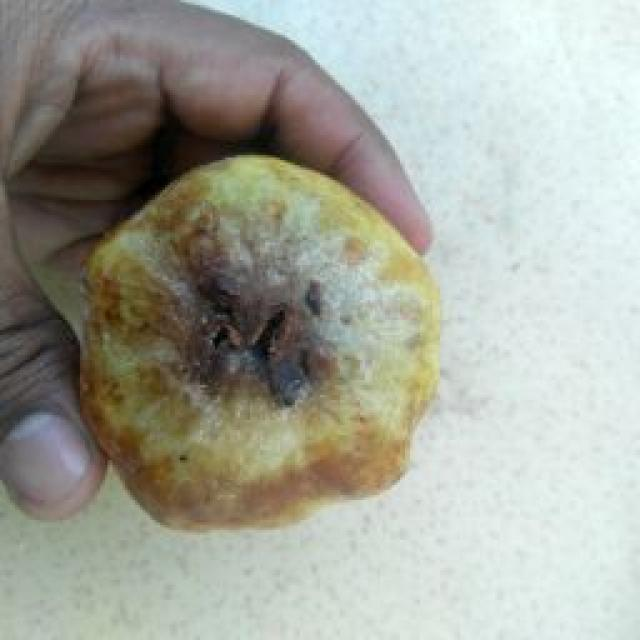Bad_Guava: (85, 158, 439, 526)
